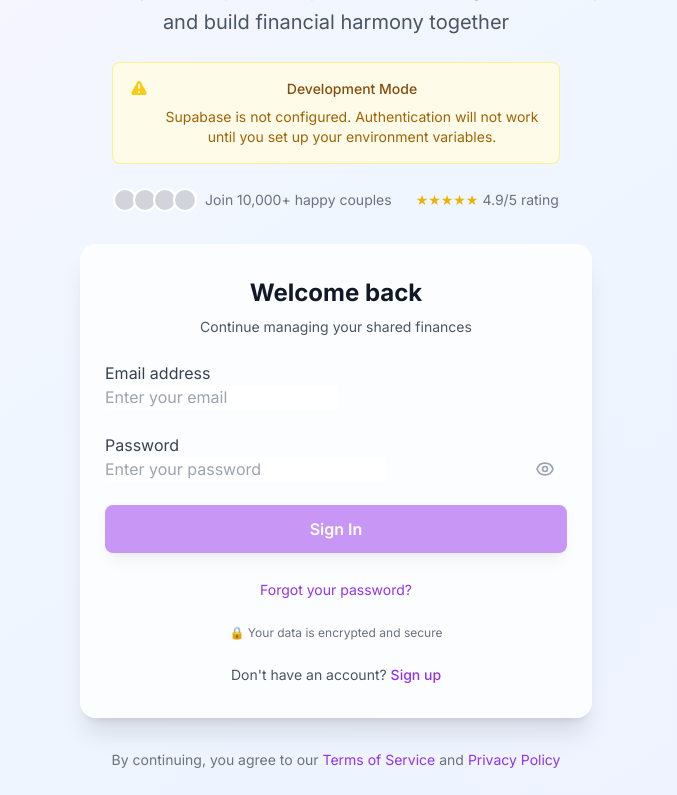
Test: LoginForm › User Interactions › toggles between login and signup modes
(page scrolled)
Expected: the heading "Welcome back" is shown, [250,278,422,307]
Note: Switch to signup
Click the button "Sign up" at coordinates (416, 675), box [391,665,441,685]
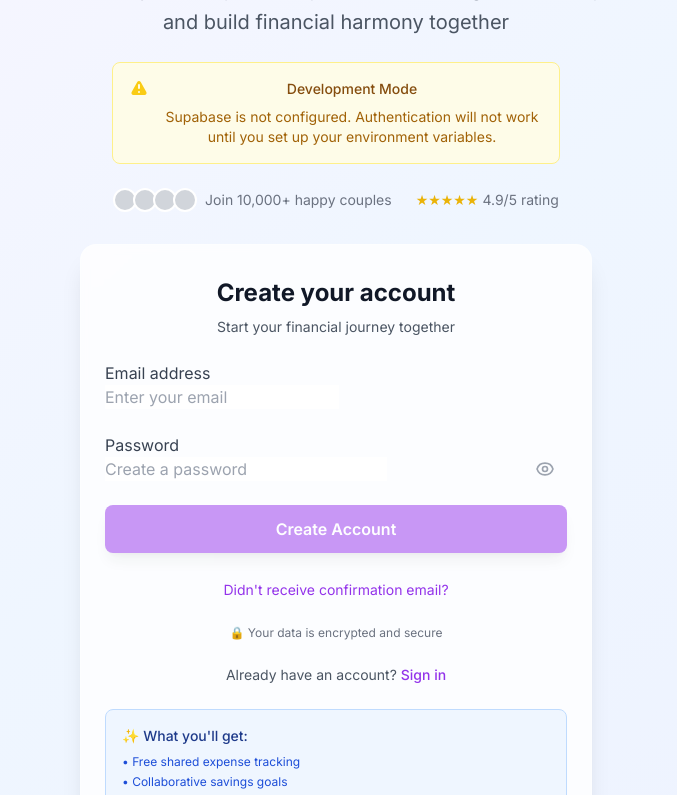
Result: the heading "Create your account" is shown at [217,278,455,307]
Result: the text "Start your financial journey together" is shown at [217,318,455,335]
Note: Switch back to login
Click the button "Sign in" at coordinates (424, 675), box [401,665,446,685]
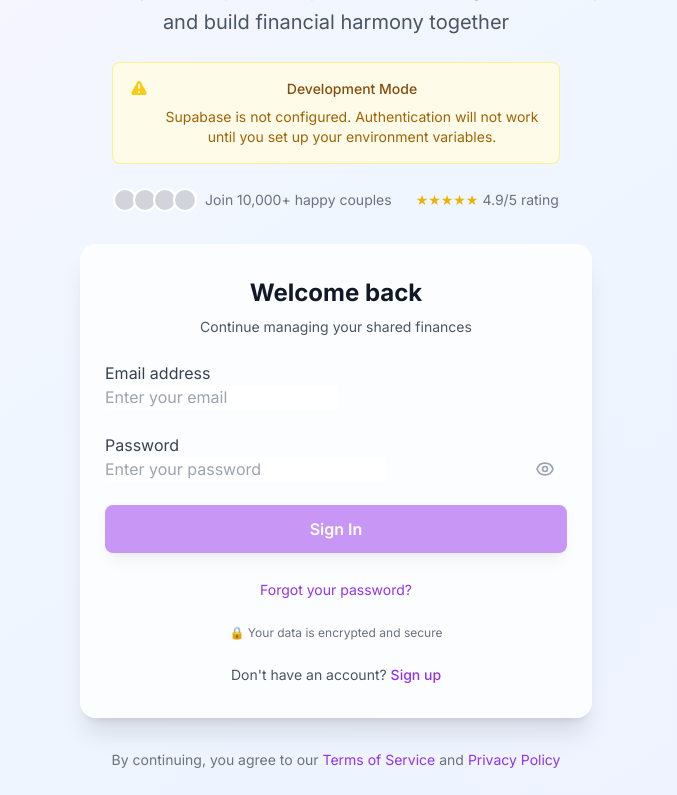
Result: the heading "Welcome back" is shown at [250,278,422,307]
